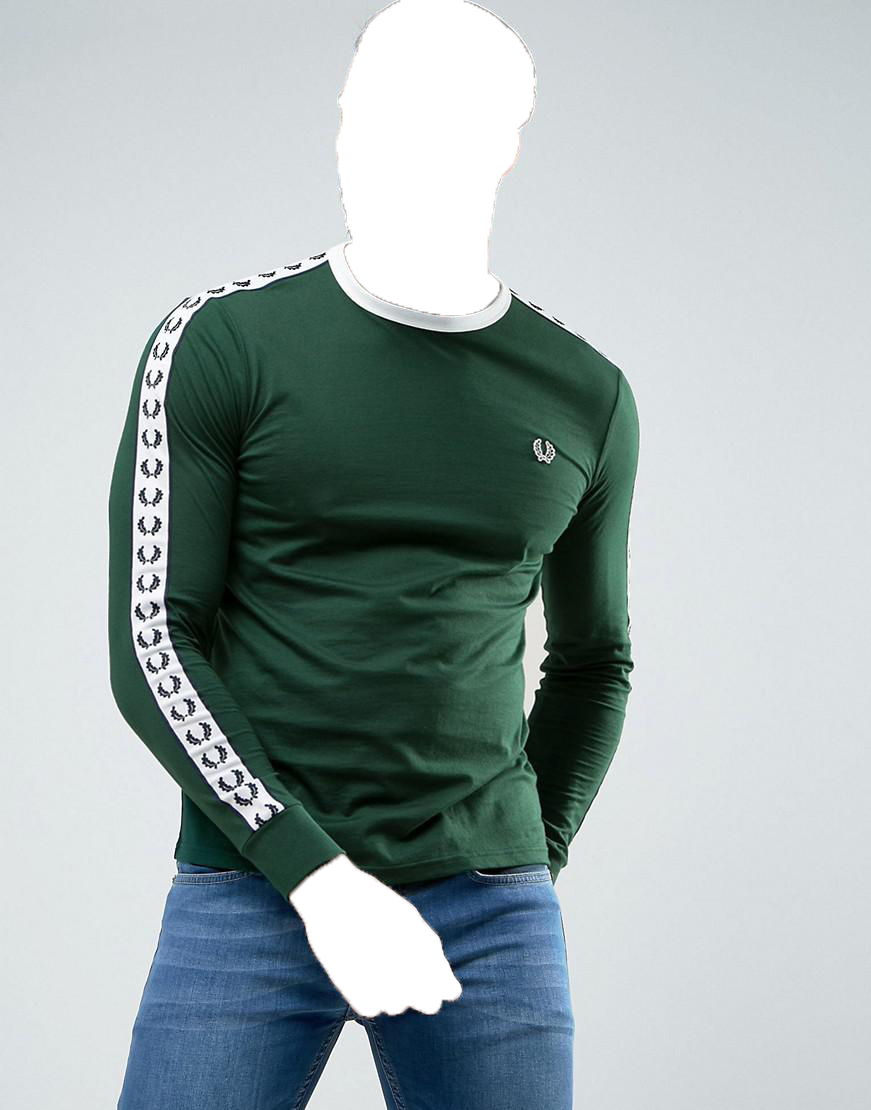teeshirt: (98, 246, 656, 895)
